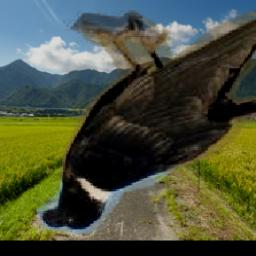Crow: (38, 10, 256, 236)
